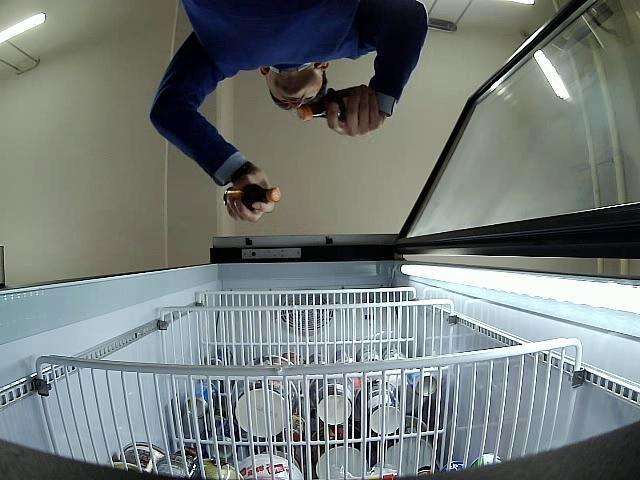17_vita500: (298, 86, 369, 124), (221, 186, 281, 206)
